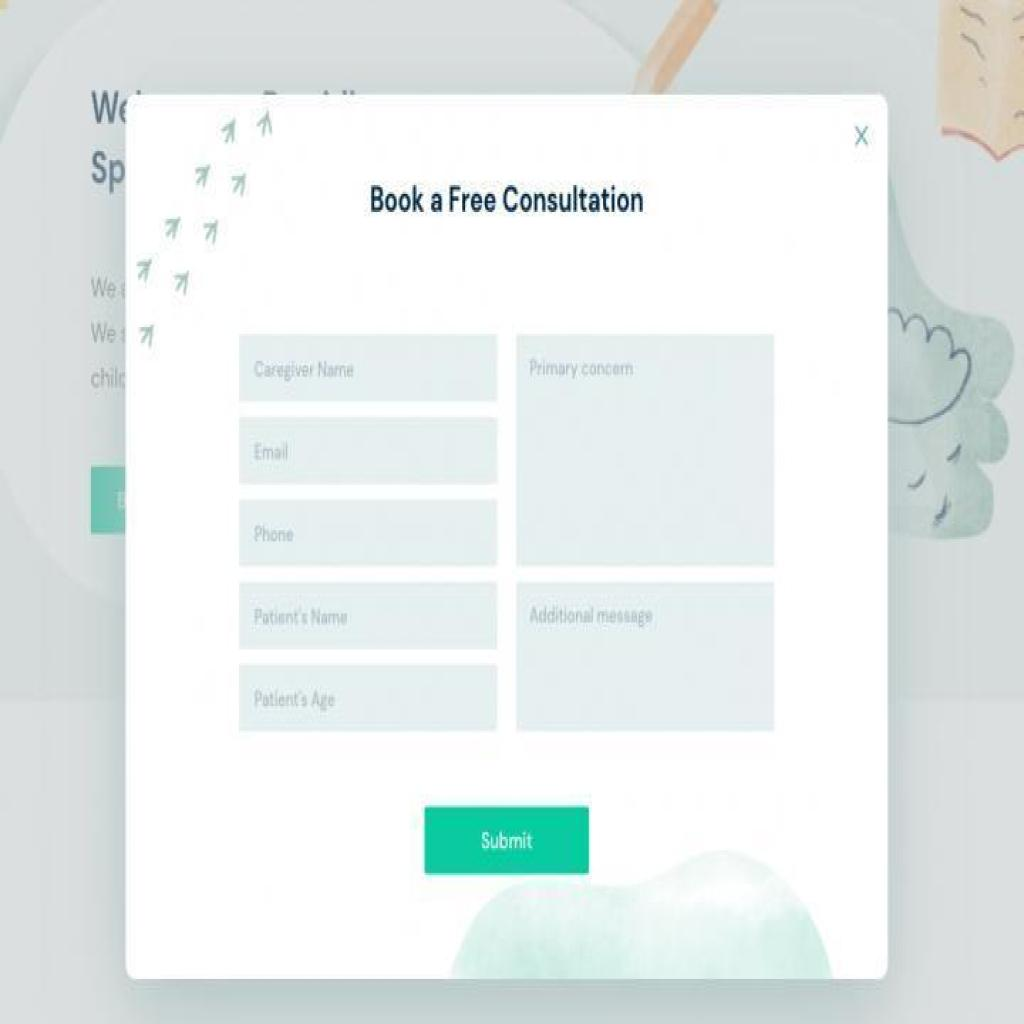button: (422, 805, 592, 880)
icon: (830, 112, 880, 164)
input: (238, 410, 499, 485), (238, 332, 499, 404), (238, 496, 499, 568), (238, 656, 499, 726), (237, 582, 498, 650)
label: (348, 169, 652, 219)
